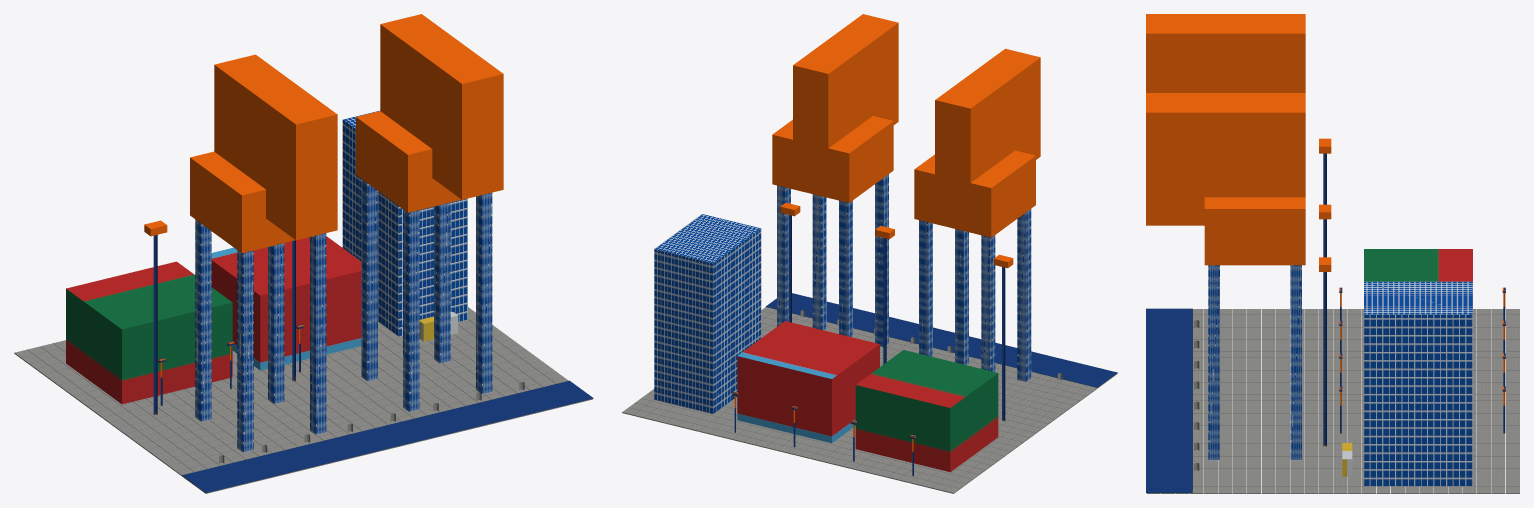
3 views of the same model, side by side, from view 1: azimuth 30°, elevation 25°; view 2: azimuth 150°, elevation 25°; view 3: azimuth 270°, elevation 25° (orthographic). The views are drawn at different scales.
Visible parts, largest first — view 1: 28185_B49_Incheon_New_Port_Container_Terminal; view 2: 28185_B49_Incheon_New_Port_Container_Terminal; view 3: 28185_B49_Incheon_New_Port_Container_Terminal.
Boxes of the visible parts, bbox=[...] form: 28185_B49_Incheon_New_Port_Container_Terminal: bbox=[14, 14, 593, 493]; 28185_B49_Incheon_New_Port_Container_Terminal: bbox=[622, 14, 1117, 493]; 28185_B49_Incheon_New_Port_Container_Terminal: bbox=[1146, 14, 1519, 493].
Size of the model in its own units: 56 by 48 by 48.
Materials: 1 (1 with a texture image).
